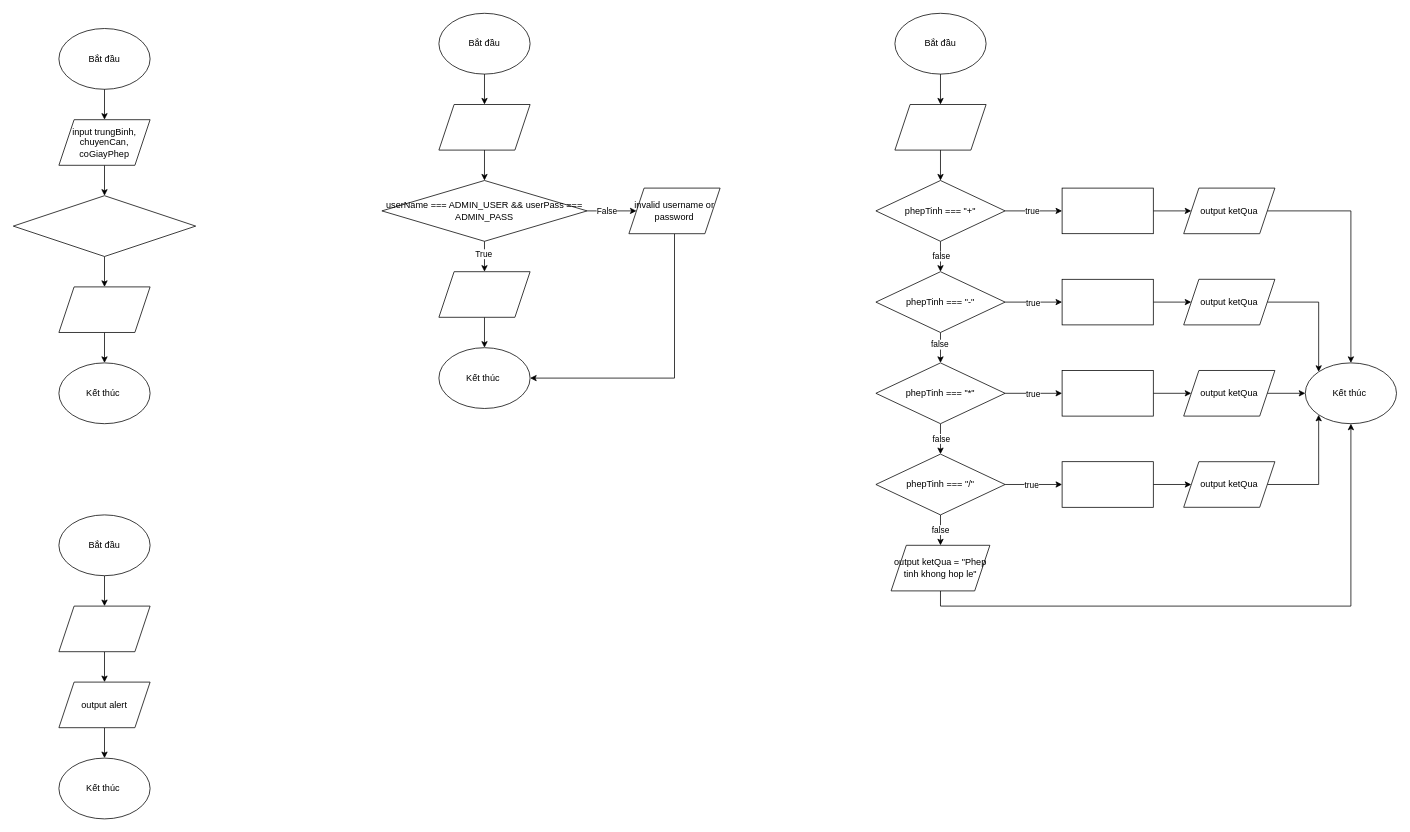
This 1410x832 diagram has some shape labels left out. The shapes that lost their labels are listed below. From the top down, each one's box as (x1, y1, x2, y2) in pixels, then its label:
(438, 104, 530, 150): input userName, userPass
(894, 104, 986, 150): input a, b, phepTinh
(13, 195, 196, 256): (chuyenCan > 80 && trungBinh >= 5) || coGiayPhep?
(1061, 187, 1153, 234): a + b
(58, 286, 150, 332): output duocDuThi
(438, 271, 530, 317): login success
(1061, 279, 1153, 325): a - b
(1061, 370, 1153, 416): a * b
(1061, 461, 1153, 507): a / b
(58, 605, 150, 652): input ten
